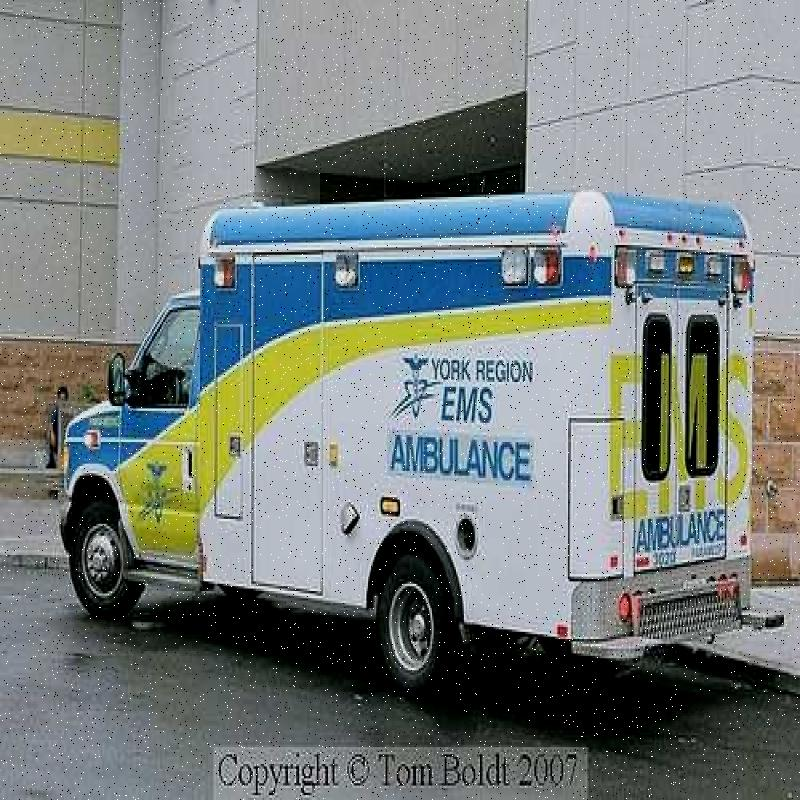AmbulanceSiren: (490, 239, 574, 305)
